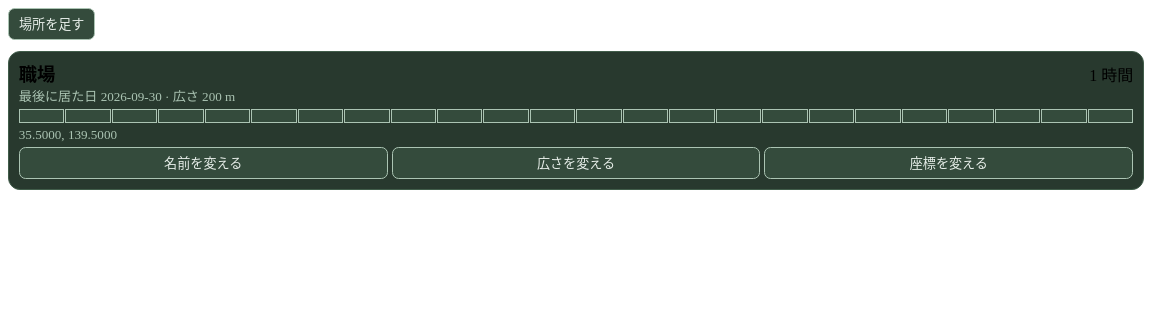
places-change: 広さを変える › いまの広さが最初に選ばれ、選んだ広さで広さの記録を 1 件送る
Click the button "広さを変える" at (576, 163), box [392,147,760,179]
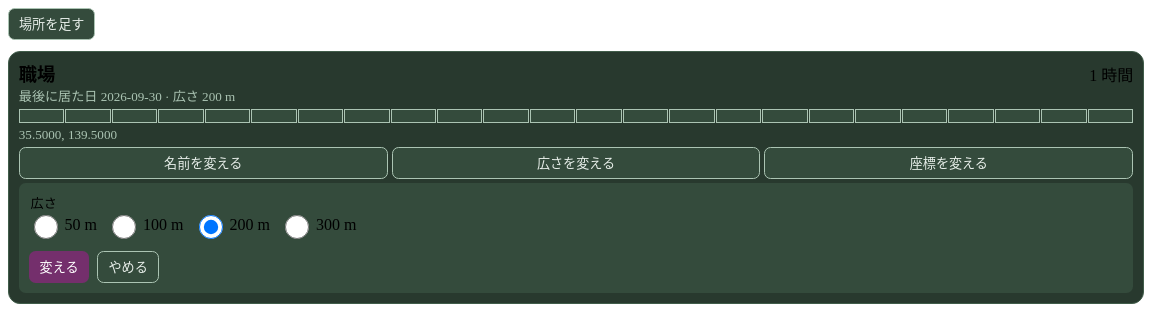
Click the radio button labelled "300 m" at (297, 227), box [285,215,309,239]
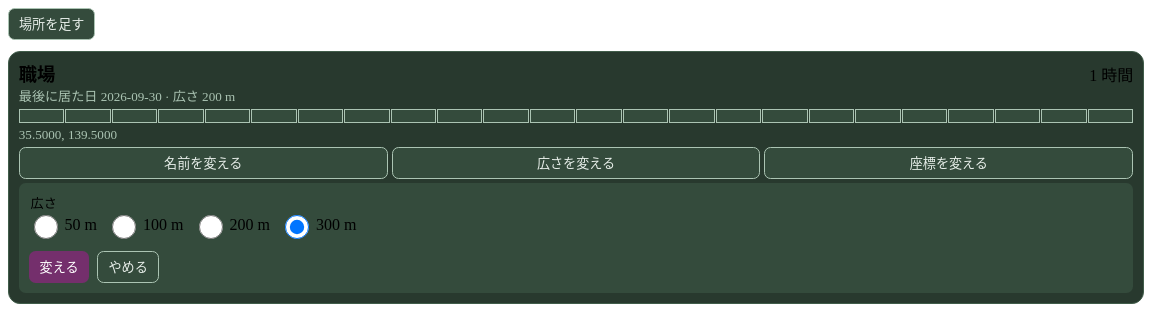
Click the button "変える" at (59, 267), box [29,251,90,283]
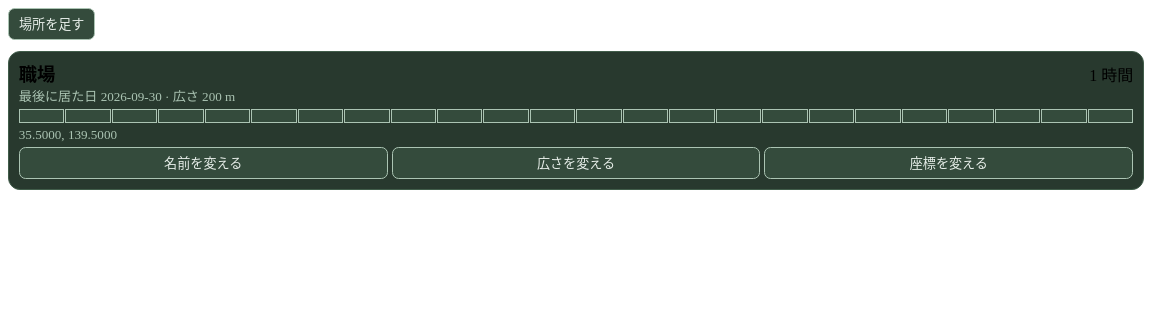
Now the element with test id "place-change-form" is gone
